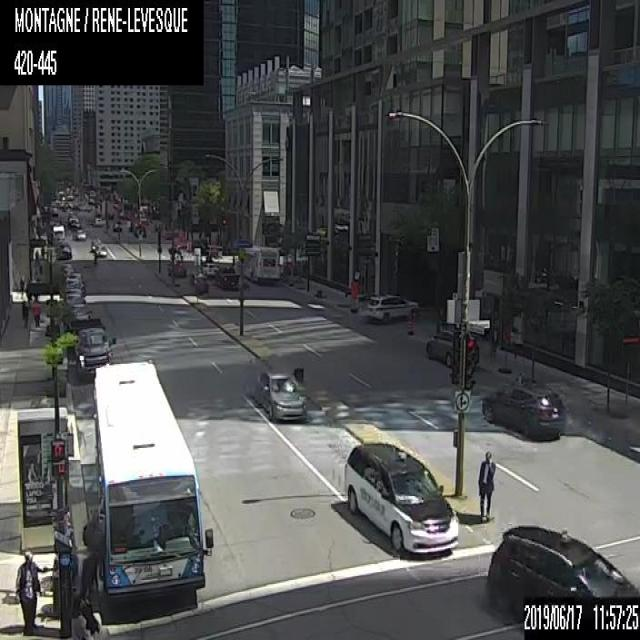bus: (91, 362, 212, 603), (238, 242, 278, 282)
construction: (348, 275, 358, 312)
pedestrian: (14, 549, 42, 632), (478, 451, 496, 521), (488, 324, 496, 361), (19, 295, 27, 327), (32, 296, 39, 328), (34, 247, 39, 268), (92, 248, 97, 265)
vehicle: (485, 523, 639, 616), (342, 438, 458, 554), (480, 380, 565, 439), (253, 369, 305, 422), (74, 325, 115, 381), (424, 328, 478, 367), (366, 292, 419, 321), (215, 265, 239, 288), (190, 270, 208, 291), (90, 237, 106, 256), (167, 260, 186, 276), (55, 240, 71, 257), (200, 262, 217, 276), (68, 213, 80, 227), (132, 223, 144, 236), (72, 228, 85, 239), (112, 219, 121, 231), (93, 215, 102, 225), (50, 206, 57, 215)
